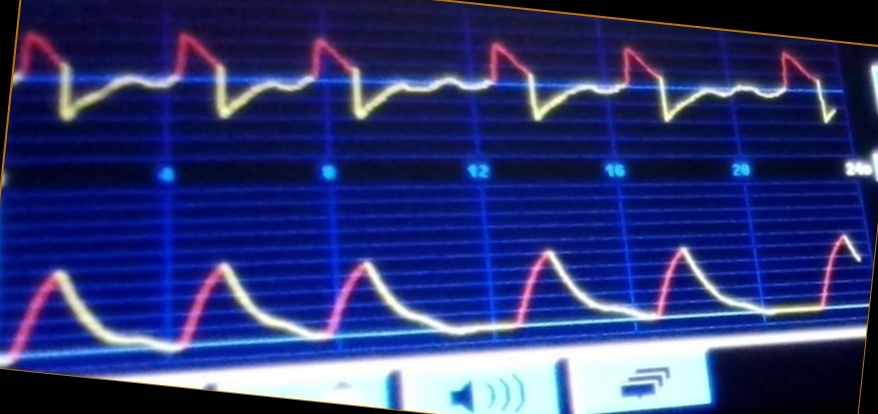Ineffective_effort Flow: (17, 21, 838, 144)
Ineffective_effort Volume: (2, 223, 859, 354)
